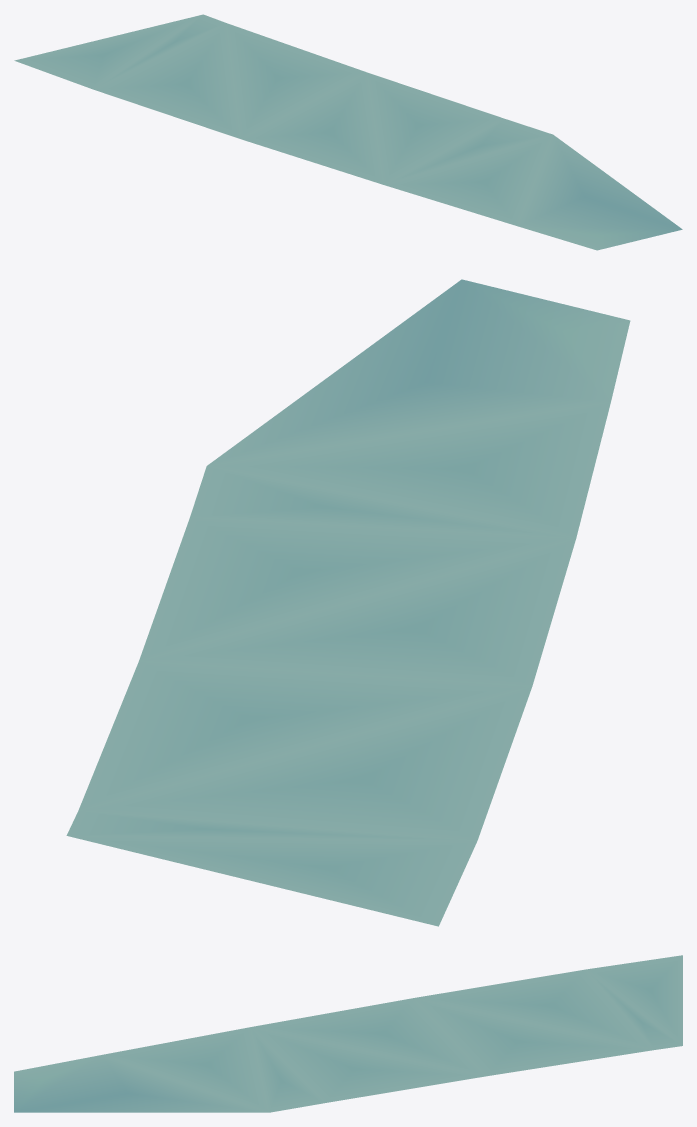
Rendered from water-15-3.glb.
3 renders of one model, top to bottom at view 1: azimuth 30°, elevation 25°; view 2: azimuth 150°, elevation 25°; view 3: azimuth 270°, elevation 25°, orthographic. The views are drawn at different scales.
Bounding box in the file's own units: 8.92 × 0 × 16.
